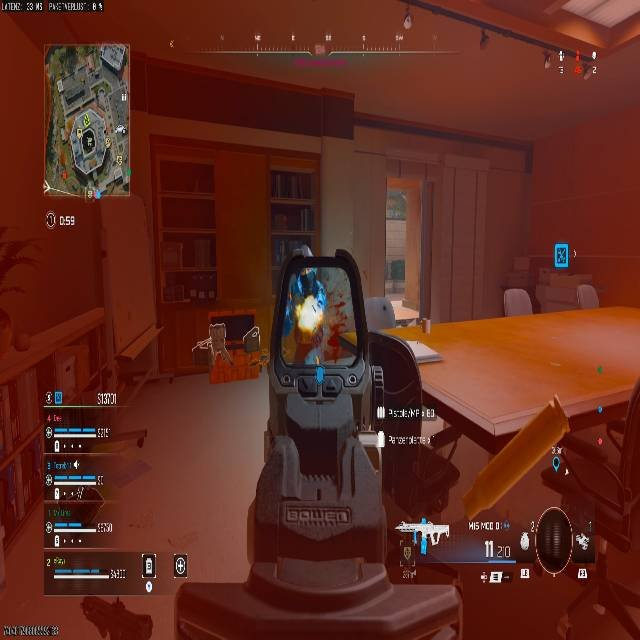head: (282, 249, 315, 300)
